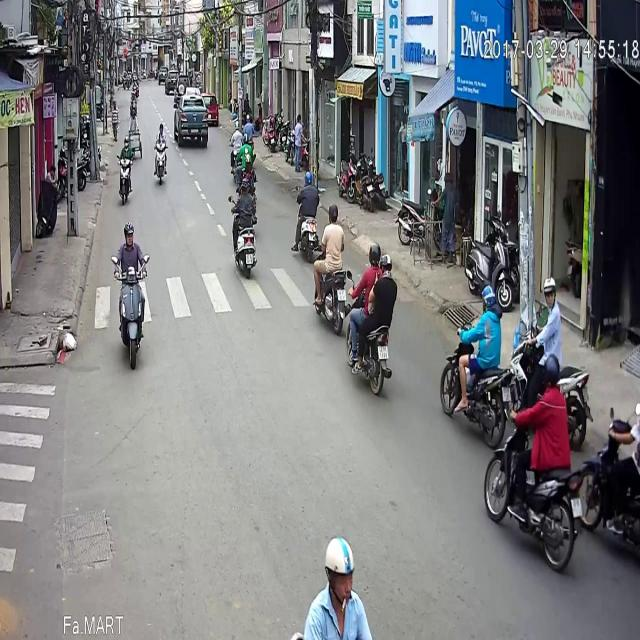car: (172, 28, 208, 88), (200, 31, 218, 69)
motorcycle: (482, 294, 586, 519), (512, 210, 590, 386), (438, 224, 522, 381), (288, 475, 374, 609), (580, 336, 638, 505), (344, 182, 396, 339), (110, 164, 148, 318), (312, 142, 348, 278), (231, 118, 259, 224), (291, 112, 321, 206), (116, 76, 132, 148), (228, 63, 242, 126), (243, 56, 254, 93), (128, 31, 136, 60)
